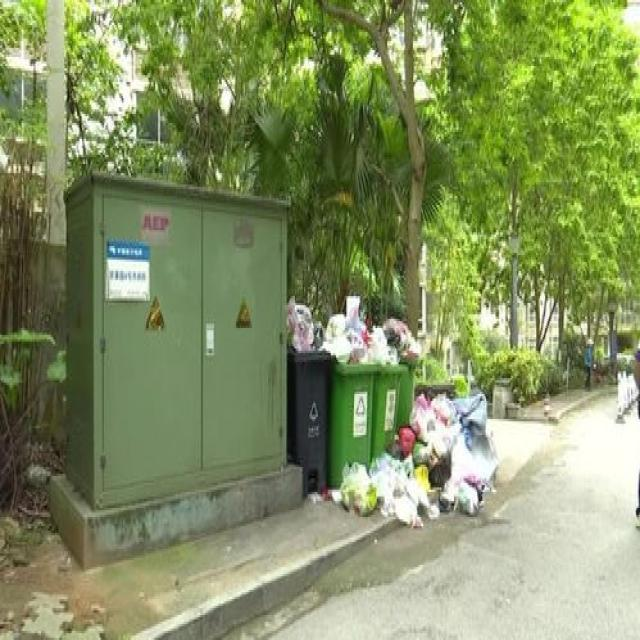garbage: (304, 392, 494, 524)
overflow: (322, 292, 374, 485), (285, 292, 332, 494), (371, 324, 405, 456), (395, 319, 421, 426)
